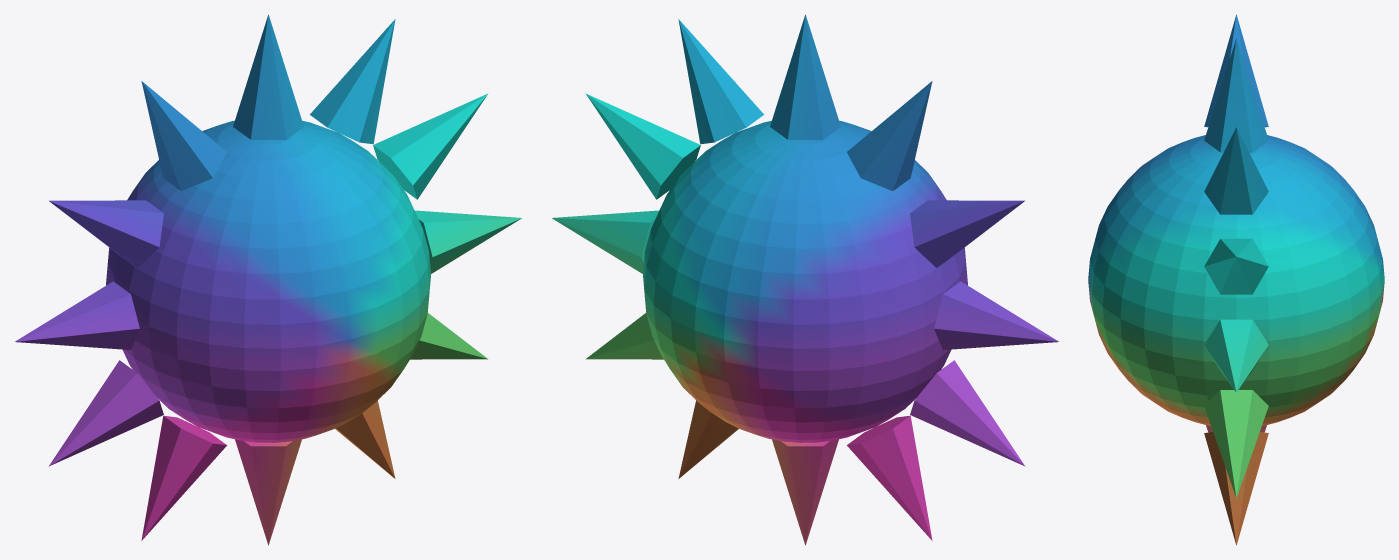
File: orb-08-sun.glb
3 views of the same model, side by side, from view 1: azimuth 30°, elevation 25°; view 2: azimuth 150°, elevation 25°; view 3: azimuth 270°, elevation 25° (orthographic). The views are drawn at different scales.
Visible parts, largest first — view 1: sun; view 2: sun; view 3: sun.
Boxes of the visible parts, <box> form: sun: <box>15,14,521,545</box>; sun: <box>552,14,1058,545</box>; sun: <box>1088,14,1384,545</box>.
Bounding box in the file's own units: 2 × 2 × 1.11.
